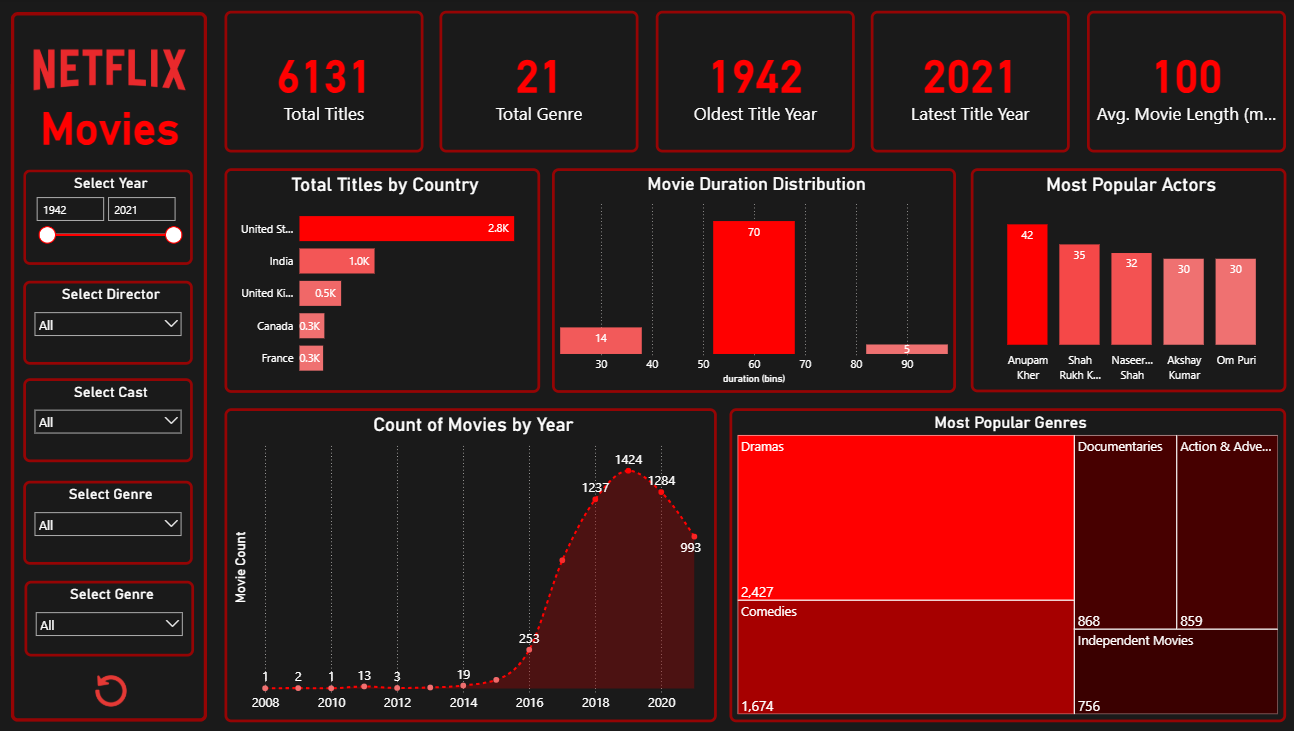

The page's visual inventory and layout, read from the dashboard file:
{"tool":"powerbi","page":{"name":"Movies","canvas":[1920,1080],"ordinal":1},"visuals":[{"type":"card","title":"hahah","fields":{"Values":["Measures Table.Total Titles"]},"box":[333.9,21,292.3,207.9],"z":0},{"type":"card","fields":{"Values":["Measures Table.Total Genre"]},"box":[650.1,21,292.3,207.9],"z":1000},{"type":"card","fields":{"Values":["Measures Table.Oldest Title Year"]},"box":[966.4,21,292.3,207.9],"z":2000},{"type":"card","fields":{"Values":["Measures Table.Latest Title Year"]},"box":[1282.6,21,292.3,207.9],"z":3000},{"type":"card","title":"Avg Movie Duration (in minutes)","fields":{"Values":["Measures Table.Avg. Movie Duration (in mins)"]},"box":[1598.9,20.6,292.3,207.9],"z":4000},{"type":"columnChart","title":"Movie Duration Distribution","fields":{"Y":["Measures Table.Total Titles"],"Category":["netflix_titles.duration (bins)"]},"box":[815.1,251.1,592.8,329.3],"z":5000},{"type":"lineChart","fields":{"Category":["netflix_titles.date_added.Variation.Date Hierarchy.Year","netflix_titles.date_added.Variation.Date Hierarchy.Quarter","netflix_titles.date_added.Variation.Date Hierarchy.Month","netflix_titles.date_added.Variation.Date Hierarchy.Day"],"Y":["CountNonNull(netflix_titles.show_id)"]},"box":[333.4,603.1,722.5,461.1],"z":6000},{"type":"treemap","title":"Most Popular Genres","fields":{"Group":["netflix_genre.Genre"],"Values":["CountNonNull(netflix_genre.show_id)"]},"box":[1074.4,603.1,817.2,461.1],"z":7000},{"type":"clusteredBarChart","fields":{"Category":["netflix_countries.Country"],"Y":["Measures Table.Total Titles"]},"box":[333.4,251.1,463.1,329.3],"z":8000},{"type":"shape","box":[20.6,22.6,288.2,1041.5],"z":9000},{"type":"image","box":[20.6,20.6,290.2,172.9],"z":10000},{"type":"columnChart","title":"Most Popular Actors","fields":{"Category":["netflix_cast.Cast"],"Y":["CountNonNull(netflix_cast.show_id)"]},"box":[1428,251,463,329],"z":11000},{"type":"slicer","title":"Select Year","fields":{"Values":["netflix_titles.release_year"]},"box":[39.1,253.2,249.1,140],"z":12000},{"type":"slicer","title":"Select Director","fields":{"Values":["netflix_directors.Director"]},"box":[39.1,415.8,249.1,123.5],"z":13000},{"type":"slicer","title":"Select Cast","fields":{"Values":["netflix_cast.Cast"]},"box":[39.1,559.9,249.1,123.5],"z":14000},{"type":"slicer","title":"Select Genre","fields":{"Values":["netflix_genre.Genre"]},"box":[39.1,710.1,249.1,123.5],"z":15000},{"type":"image","box":[131.7,988,70,59.7],"z":16000},{"type":"textbox","box":[41.2,150.3,251.1,102.9],"z":17000},{"type":"slicer","title":"Select Genre","fields":{"Values":["netflix_countries.Country"]},"box":[41.2,856.3,249.1,111.1],"z":18000}]}

Visuals, with their boxes in screenshot pixels (x1, y1, x2, y2), scaled from the page's 1920x1080 canvas onto the 1294x731 screenshot:
"hahah" card: {"left": 225, "top": 14, "right": 422, "bottom": 155}
card - Measures Table.Total Genre: {"left": 438, "top": 14, "right": 635, "bottom": 155}
card - Measures Table.Oldest Title Year: {"left": 651, "top": 14, "right": 848, "bottom": 155}
card - Measures Table.Latest Title Year: {"left": 864, "top": 14, "right": 1061, "bottom": 155}
"Avg Movie Duration (in minutes)" card: {"left": 1078, "top": 14, "right": 1275, "bottom": 155}
"Movie Duration Distribution" columnChart: {"left": 549, "top": 170, "right": 949, "bottom": 393}
lineChart - netflix_titles.date_added.Variation.Date Hierarchy.Year x netflix_titles.date_added.Variation.Date Hierarchy.Quarter: {"left": 225, "top": 408, "right": 712, "bottom": 720}
"Most Popular Genres" treemap: {"left": 724, "top": 408, "right": 1275, "bottom": 720}
clusteredBarChart - netflix_countries.Country x Measures Table.Total Titles: {"left": 225, "top": 170, "right": 537, "bottom": 393}
shape: {"left": 14, "top": 15, "right": 208, "bottom": 720}
image: {"left": 14, "top": 14, "right": 209, "bottom": 131}
"Most Popular Actors" columnChart: {"left": 962, "top": 170, "right": 1274, "bottom": 393}
"Select Year" slicer: {"left": 26, "top": 171, "right": 194, "bottom": 266}
"Select Director" slicer: {"left": 26, "top": 281, "right": 194, "bottom": 365}
"Select Cast" slicer: {"left": 26, "top": 379, "right": 194, "bottom": 463}
"Select Genre" slicer: {"left": 26, "top": 481, "right": 194, "bottom": 564}
image: {"left": 89, "top": 669, "right": 136, "bottom": 709}
textbox: {"left": 28, "top": 102, "right": 197, "bottom": 171}
"Select Genre" slicer: {"left": 28, "top": 580, "right": 196, "bottom": 655}
